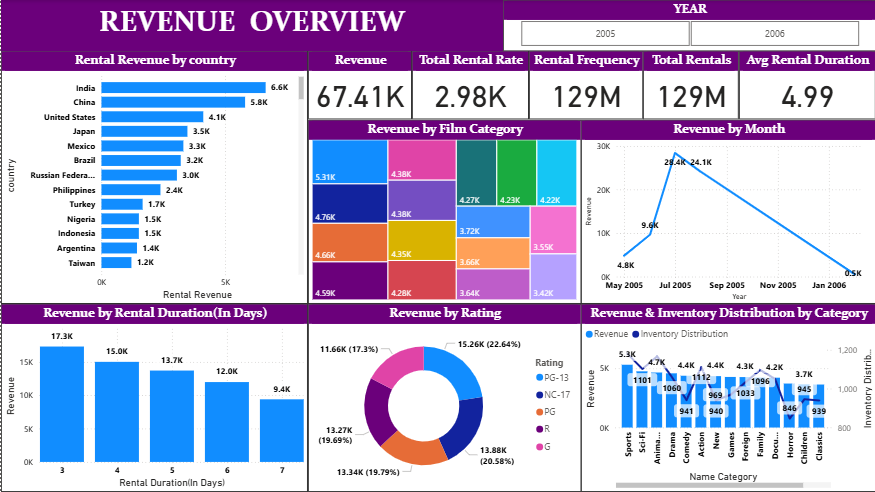

The dashboard page shown, as its layout file describes it:
{"tool":"powerbi","page":{"name":"Revenue Analysis","canvas":[1280,720],"ordinal":0},"visuals":[{"type":"textbox","box":[0,0,734.6,74.6],"z":0},{"type":"clusteredBarChart","fields":{"Category":["country.country"],"Y":["Sum(payment.amount)"]},"box":[0,74.6,449.3,370.2],"z":1000},{"type":"lineStackedColumnComboChart","fields":{"Category":["film.rental_duration"],"Y":["payment.Revenue"]},"box":[0,444.9,449.3,275.1],"z":2000},{"type":"donutChart","fields":{"Y":["payment.Revenue"],"Category":["film.rating"]},"box":[449.3,444.9,399.5,275.1],"z":3000},{"type":"slicer","title":"YEAR","fields":{"Values":["payment.payment_date.Variation.Date Hierarchy.Year"]},"box":[734.6,0,545.9,74.6],"z":4000},{"type":"card","title":"Revenue","fields":{"Values":["payment.Revenue"]},"box":[449.3,74.6,152.2,99.5],"z":5000},{"type":"card","title":"Rental Frequency","fields":{"Values":["Sum(payment.payment_id)"]},"box":[772.7,74.6,166.8,99.5],"z":6000},{"type":"card","title":"Total Rental Rate","fields":{"Values":["Sum(film.rental_rate)"]},"box":[601.5,74.6,171.2,99.5],"z":7000},{"type":"card","title":"Total Rentals","fields":{"Values":["Sum(rental.rental_id)"]},"box":[939.5,74.6,140.5,99.5],"z":8000},{"type":"treemap","fields":{"Group":["category.name"],"Values":["payment.Revenue"]},"box":[449.3,175.6,399.5,269.3],"z":9000},{"type":"lineChart","title":"Revenue by Month","fields":{"Category":["payment.payment_date.Variation.Date Hierarchy.Year","payment.payment_date.Variation.Date Hierarchy.Month"],"Y":["payment.Revenue"]},"box":[848.8,175.6,431.7,269.3],"z":10000},{"type":"lineStackedColumnComboChart","title":"Revenue & Inventory Distribution by Category","fields":{"Category":["category.name"],"Y":["payment.Revenue"],"Y2":["CountNonNull(rental.inventory_id)"]},"box":[848.8,444.9,431.7,275.1],"z":11000},{"type":"card","title":"Avg Rental Duration","fields":{"Values":["Avg(film.rental_duration)"]},"box":[1080,74.6,200.5,99.5],"z":12000}]}

Visuals, with their boxes in screenshot pixels (x1, y1, x2, y2), scaled from the page's 1280x720 canvas onto the 875x492 screenshot:
textbox: <box>0,0,502,51</box>
clusteredBarChart - country.country x Sum(payment.amount): <box>0,51,307,304</box>
lineStackedColumnComboChart - film.rental_duration x payment.Revenue: <box>0,304,307,491</box>
donutChart - payment.Revenue x film.rating: <box>307,304,580,491</box>
"YEAR" slicer: <box>502,0,874,51</box>
"Revenue" card: <box>307,51,411,119</box>
"Rental Frequency" card: <box>528,51,642,119</box>
"Total Rental Rate" card: <box>411,51,528,119</box>
"Total Rentals" card: <box>642,51,738,119</box>
treemap - category.name x payment.Revenue: <box>307,120,580,304</box>
"Revenue by Month" lineChart: <box>580,120,874,304</box>
"Revenue & Inventory Distribution by Category" lineStackedColumnComboChart: <box>580,304,874,491</box>
"Avg Rental Duration" card: <box>738,51,874,119</box>
